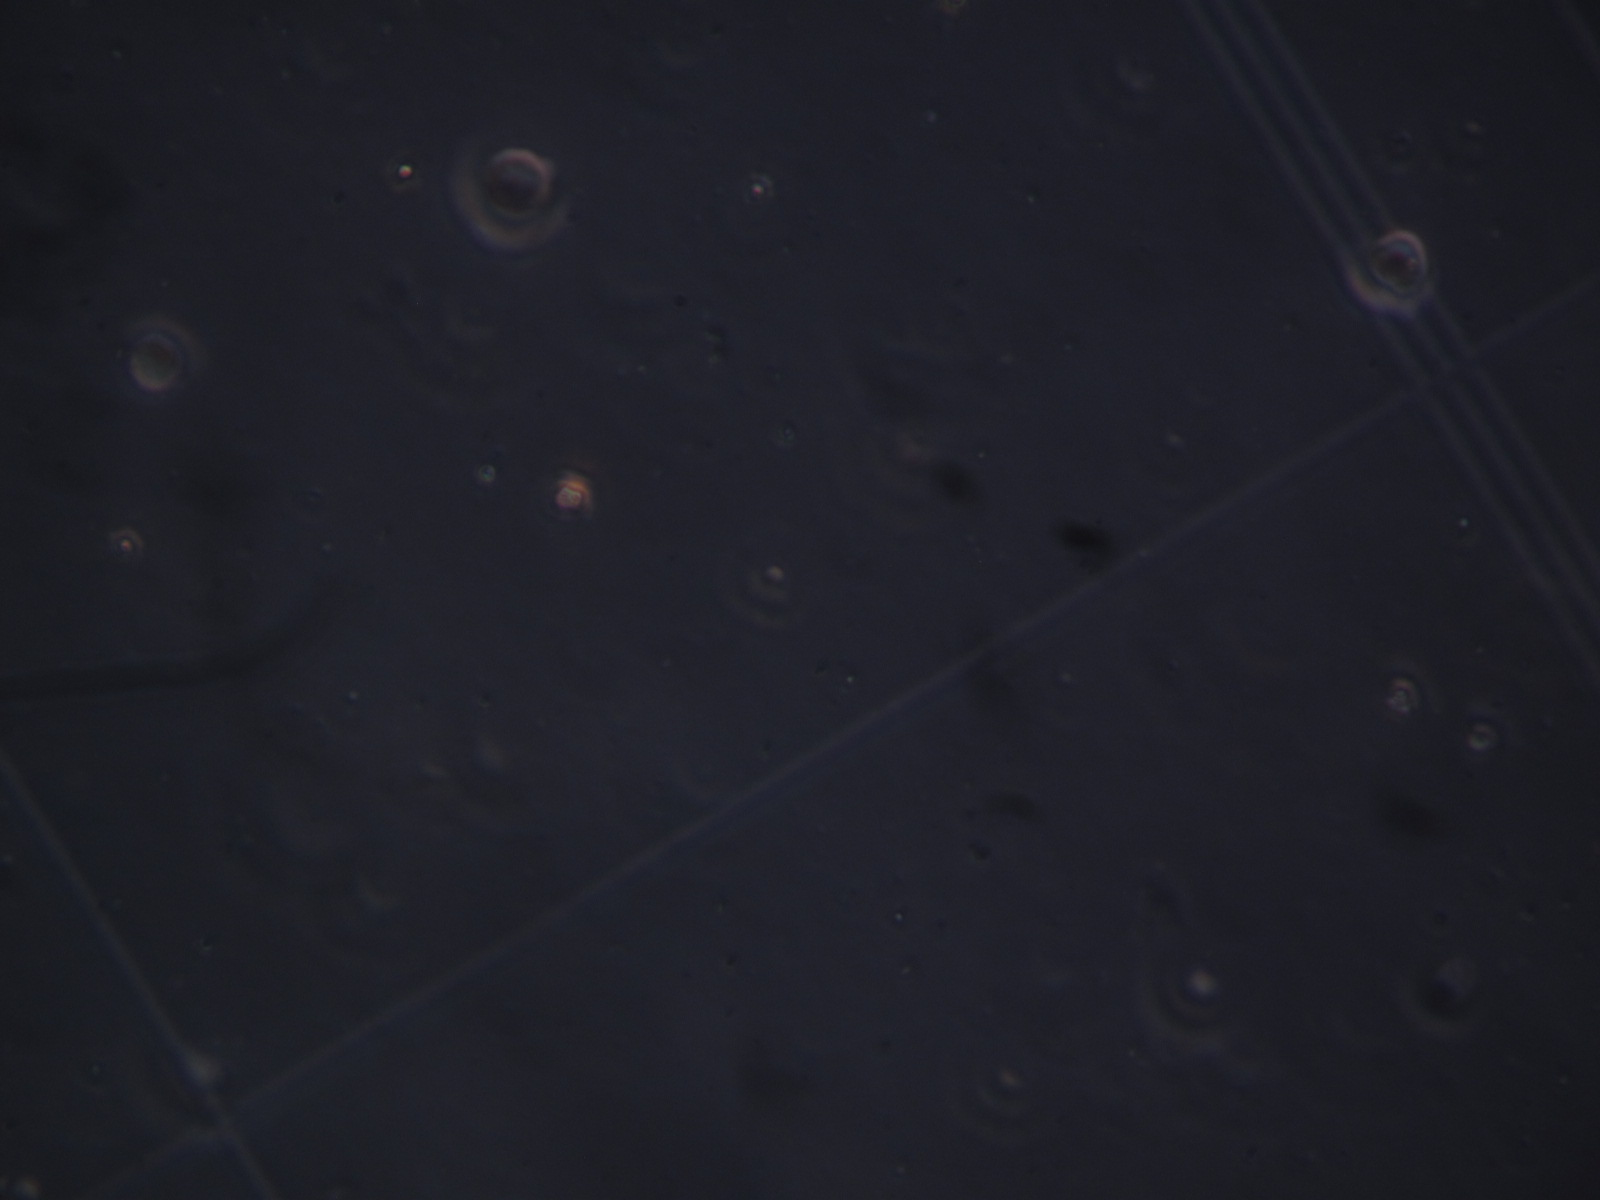hemo: (447, 127, 569, 251), (1340, 226, 1434, 314), (122, 316, 204, 400)
